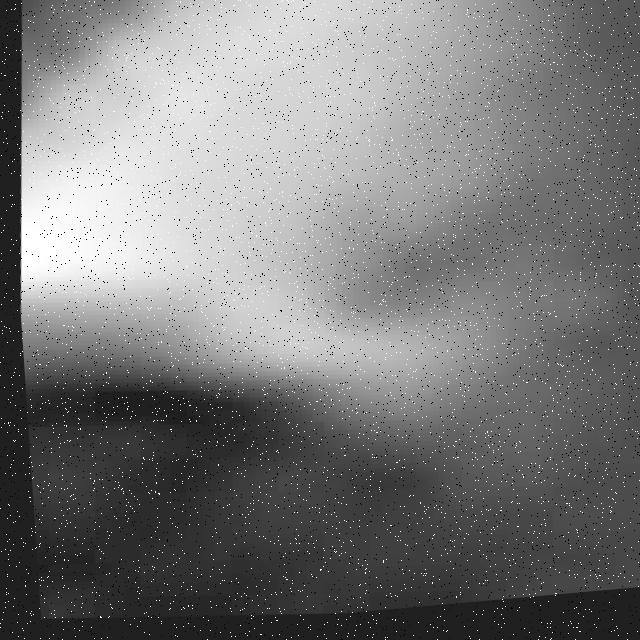person: (1, 1, 640, 446)
